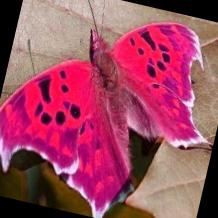butterfly: (0, 21, 213, 218)
